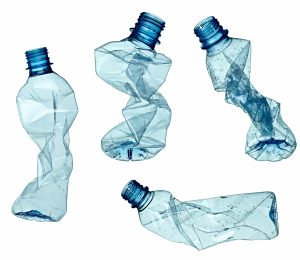plastic_bottle: (88, 146, 295, 256), (172, 3, 300, 165), (65, 5, 188, 172), (6, 33, 85, 237)
